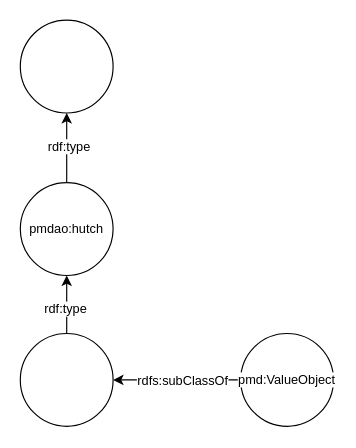
Image size: 356x448. Some labels were removed from this diagram. The centre of each missing label's shape, as x and y in pixels:
hutch_: the point at 66,66
pmd:Location: the point at 66,379
